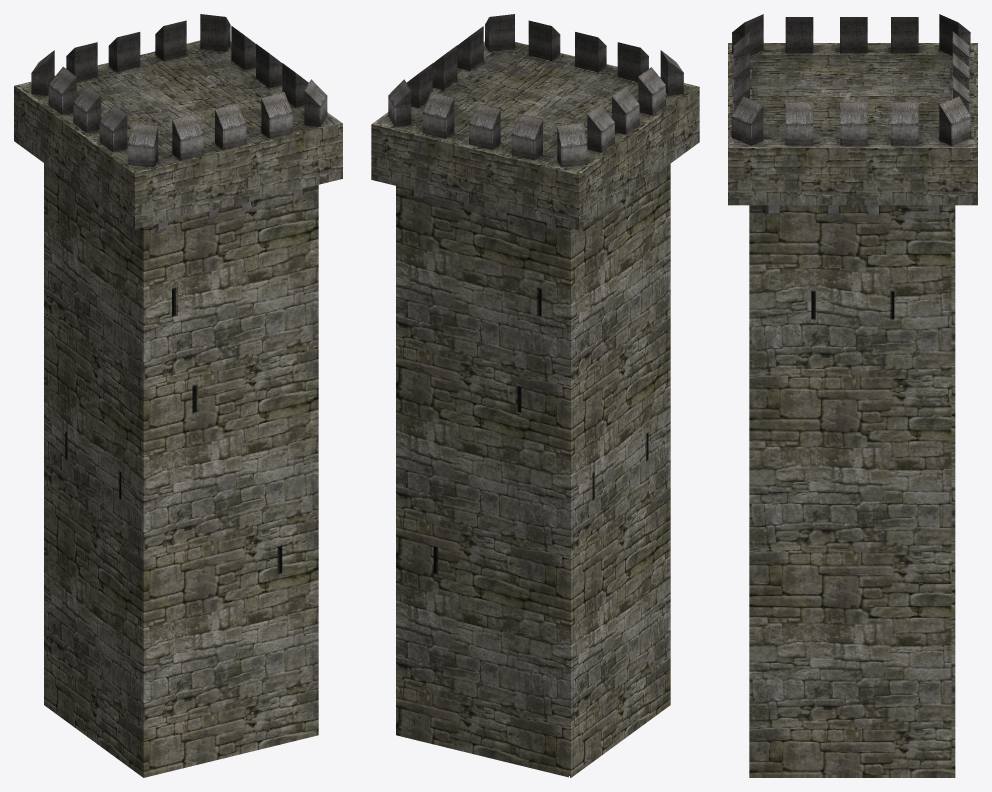
The model's file is tower_1_LOD.fbx.
The picture shows the model from 3 angles, left to right: view 1: azimuth 30°, elevation 25°; view 2: azimuth 150°, elevation 25°; view 3: azimuth 270°, elevation 25°; orthographic projection. The views are drawn at different scales.
Parts seen in each view (by area): view 1: tower_1_LOD; view 2: tower_1_LOD; view 3: tower_1_LOD.
Part boxes in pixels (x1,y1,x2,y2): tower_1_LOD: (14,14,342,777); tower_1_LOD: (371,14,699,777); tower_1_LOD: (728,14,977,777).
Size of the model in its own units: 1048 by 3135 by 1054.
